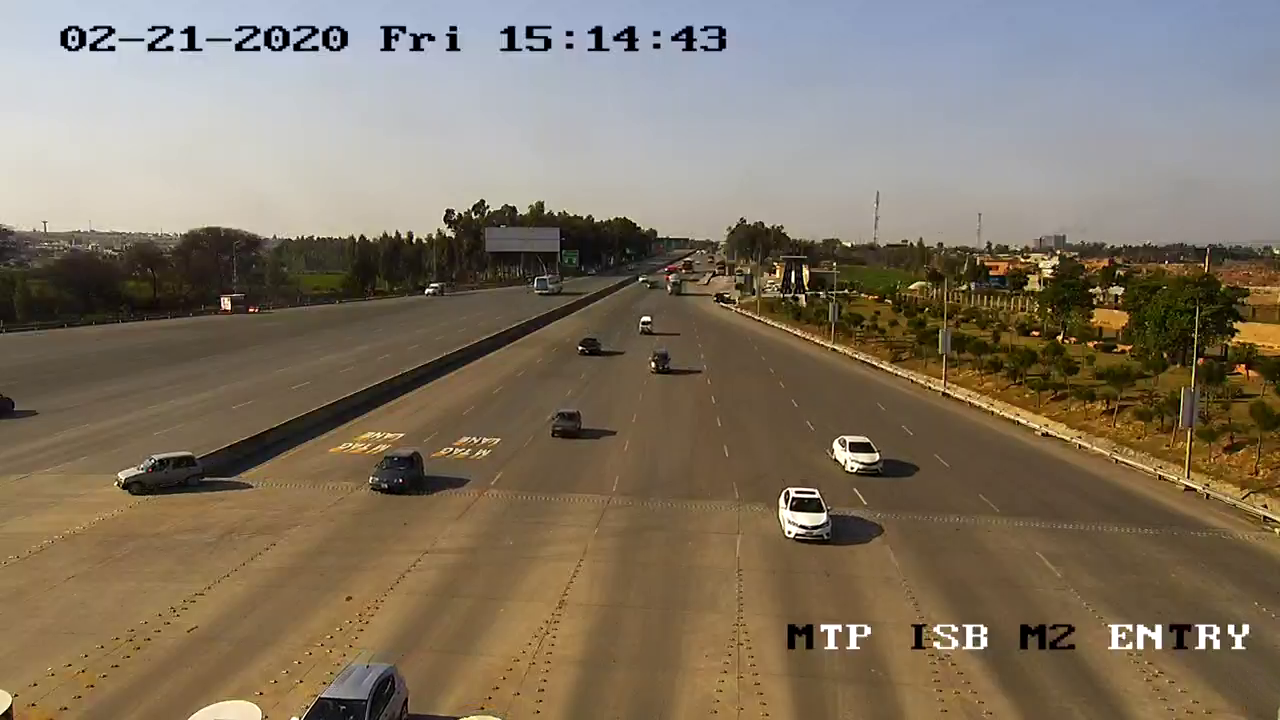f1: (772, 472, 840, 553), (362, 439, 431, 504), (825, 427, 893, 480), (539, 401, 588, 448)
